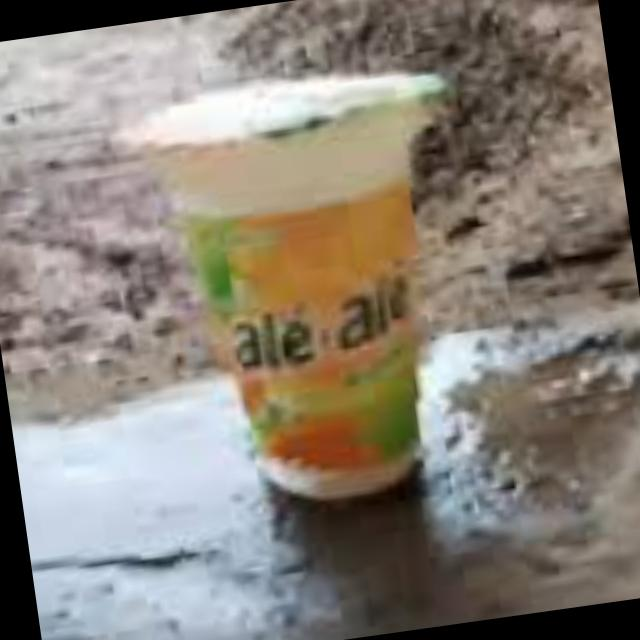GelasPlastik: (114, 50, 506, 525)
